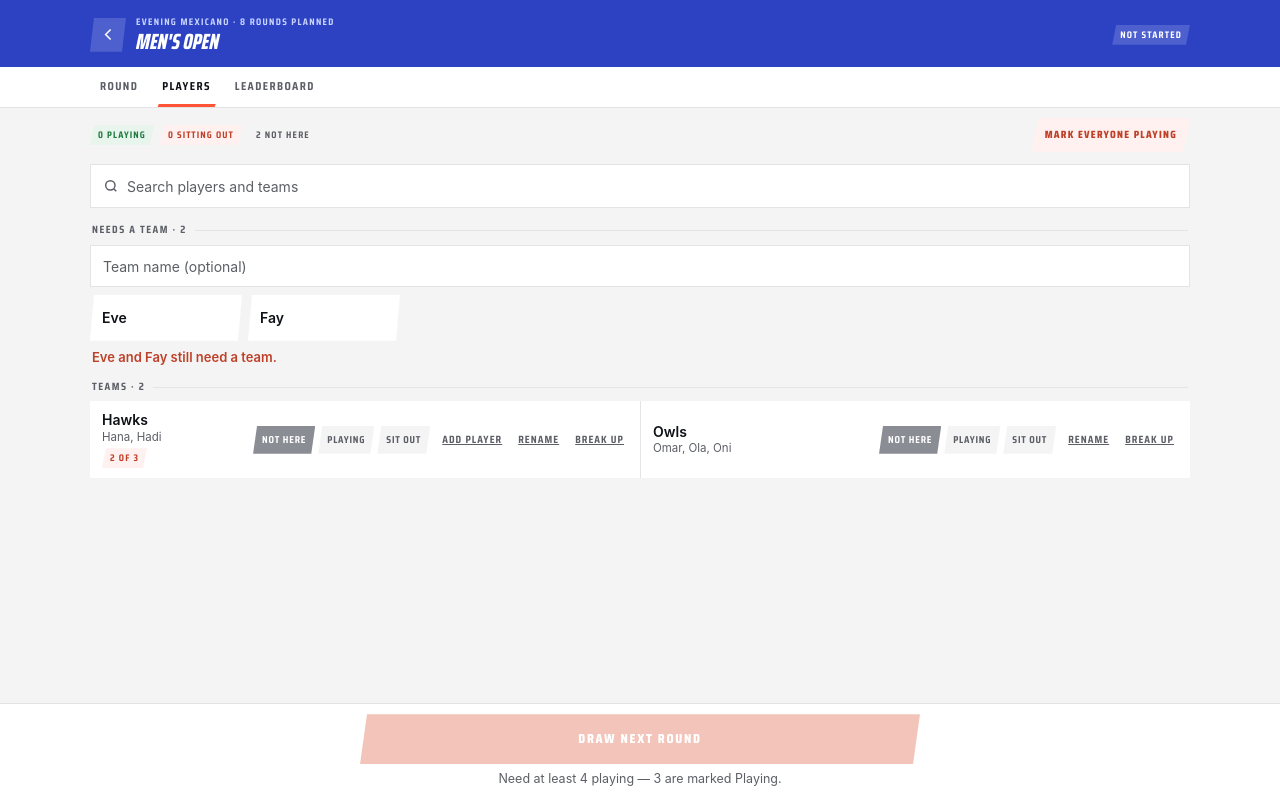
Scenario: cancelling the fill goes back to making new teams
Click the button with aria-label "Add a player to Hawks".
click(472, 440)  # box left=438, top=422, right=506, bottom=458
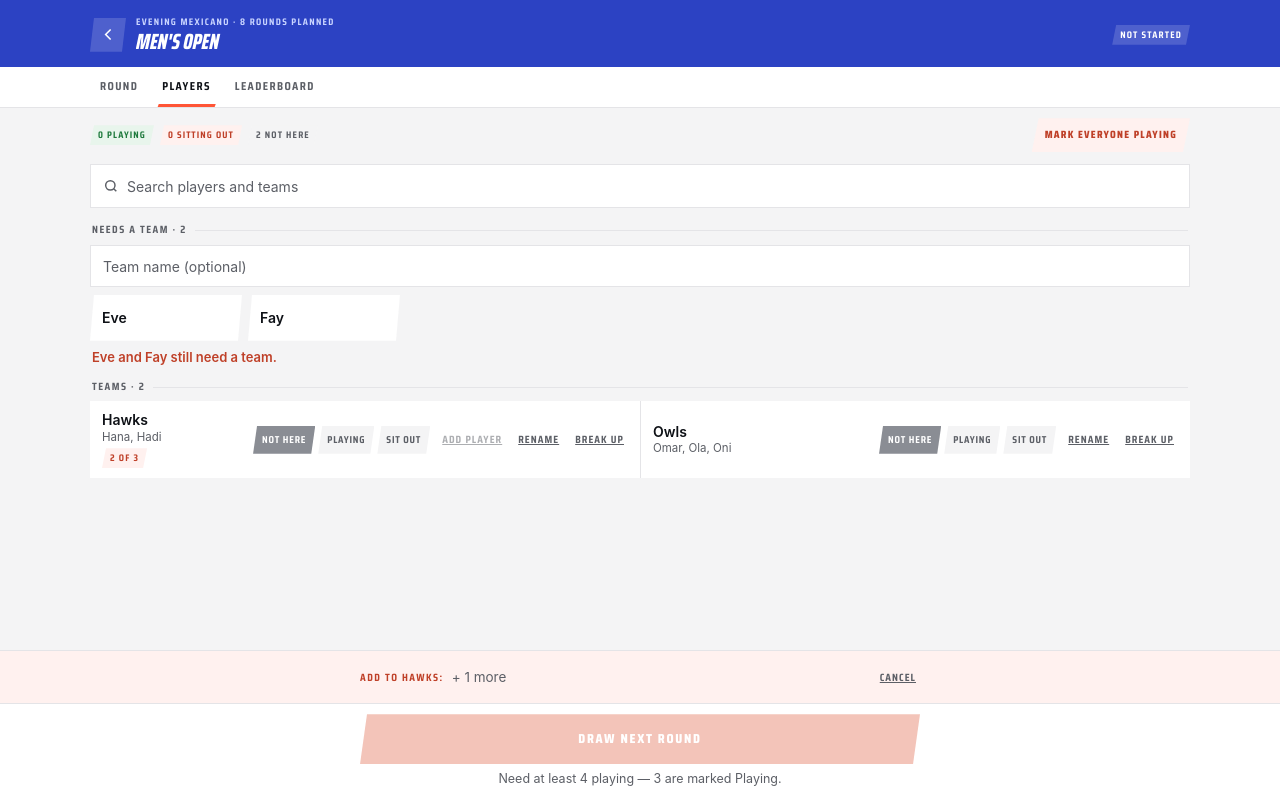
Click the button "Cancel".
click(898, 677)  # box left=876, top=659, right=920, bottom=695
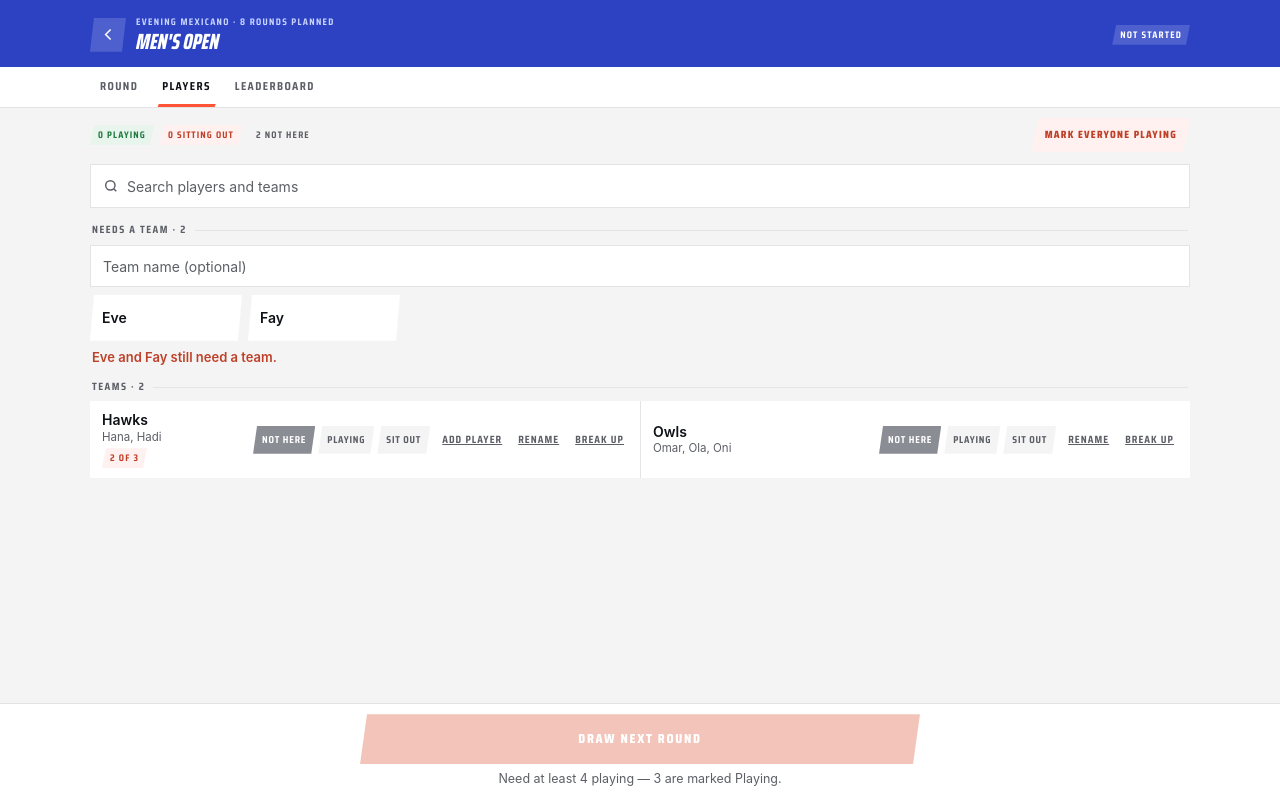
Result: the text "Add to Hawks" is gone
Click the button "Eve".
click(166, 318)  # box left=90, top=295, right=242, bottom=341
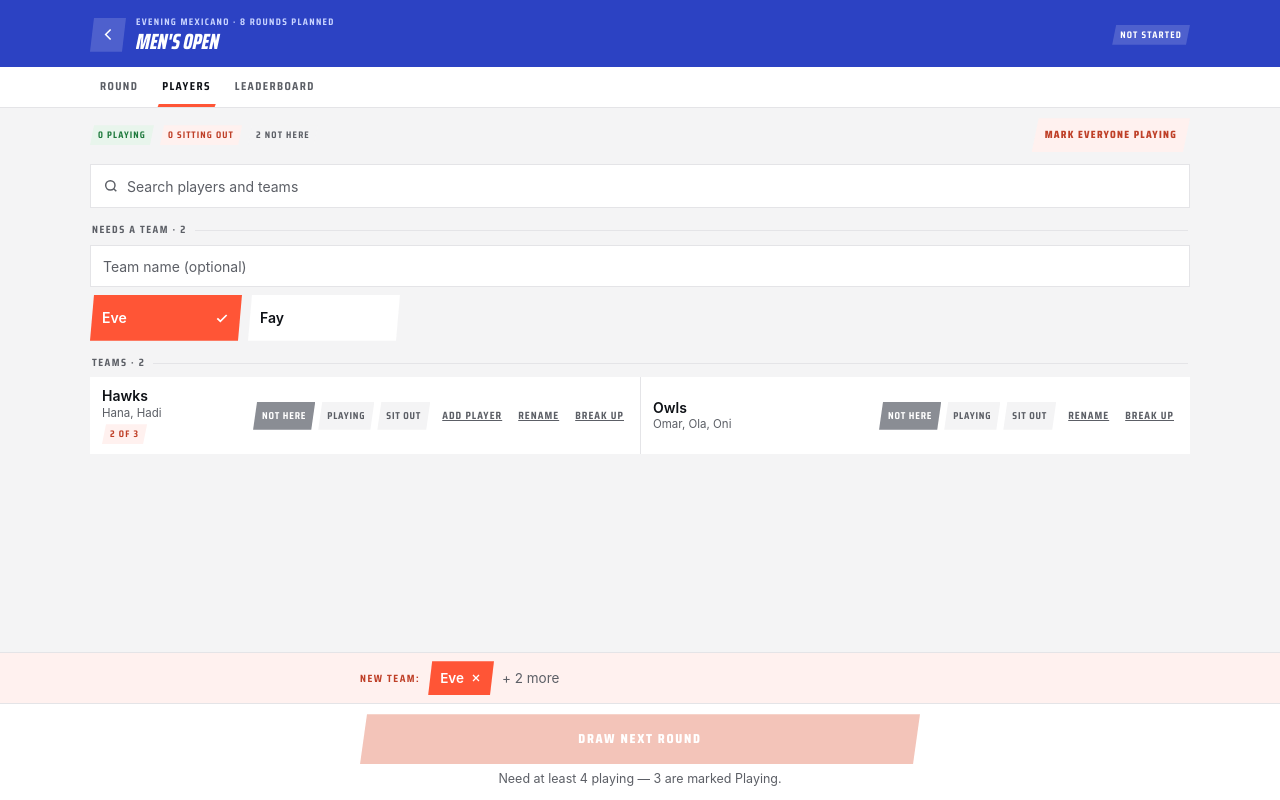
Result: the element "New team" is shown at left=0, top=653, right=1279, bottom=704
